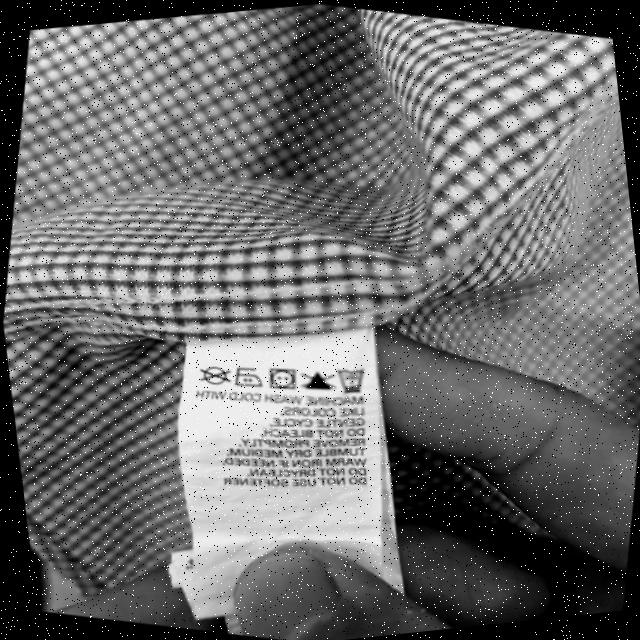ER_iron_medium_temp: (234, 361, 264, 390)
ER_no_bleach: (301, 365, 335, 393)
ER_no_dry_clean: (200, 358, 232, 388)
ER_tumble_dry_normal_heat: (266, 366, 299, 393)
